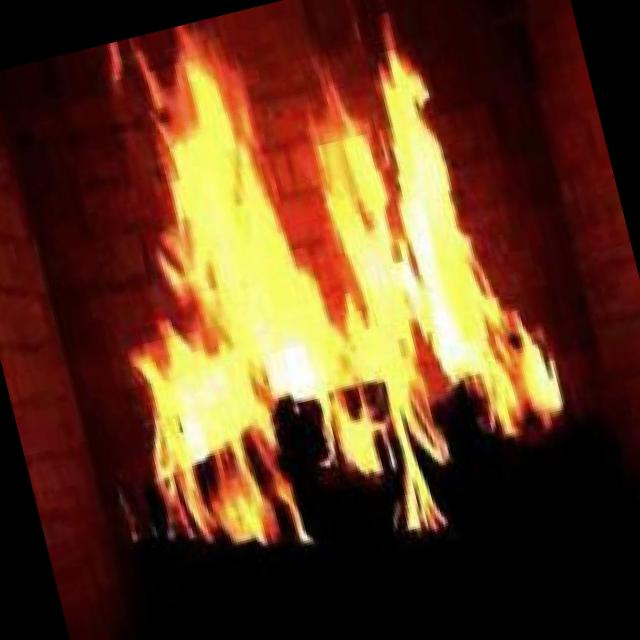Fire: (5, 0, 594, 607)
